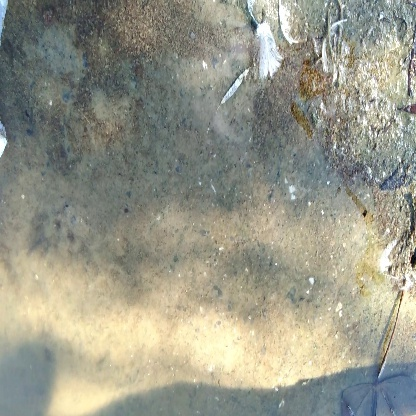branch: (344, 267, 416, 415)
